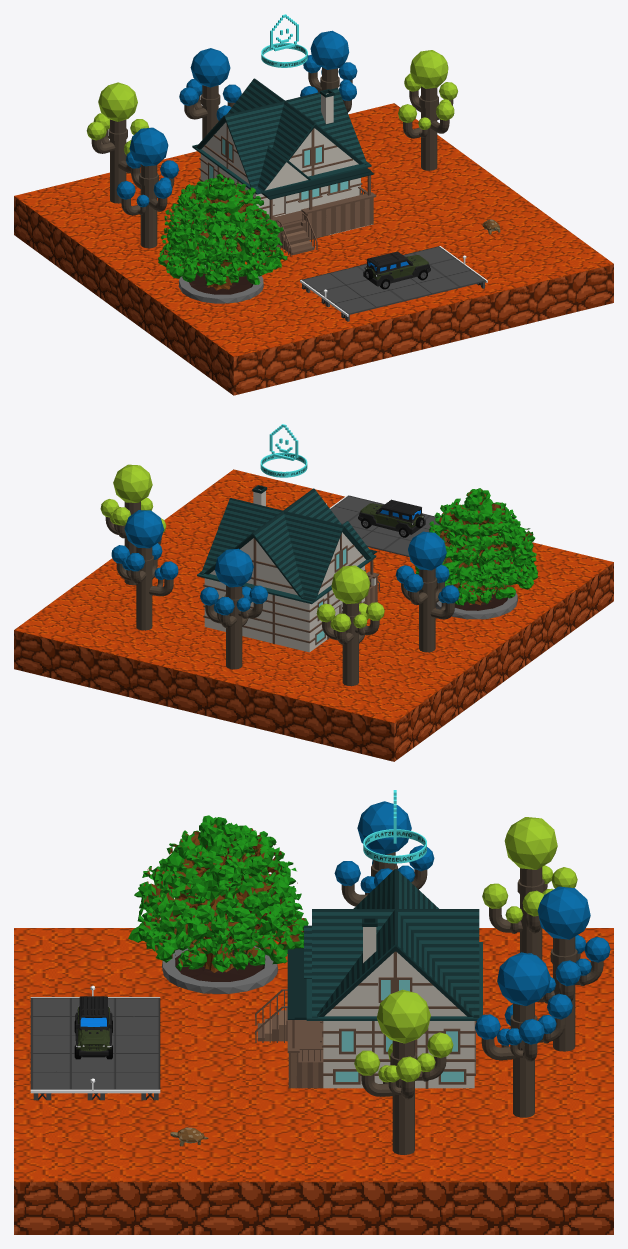
3 renders of one model, top to bottom at view 1: azimuth 30°, elevation 25°; view 2: azimuth 150°, elevation 25°; view 3: azimuth 270°, elevation 25°, orthographic. The views are drawn at different scales.
Parts seen in each view (by area): view 1: Cube.001, Cube.793, OBJRANDOM_CEIBA, VEHICLES_JEEP, TYPE_PREMIUM; view 2: Cube.001, Cube.793, OBJRANDOM_CEIBA, VEHICLES_JEEP, TYPE_PREMIUM; view 3: Cube.001, Cube.793, OBJRANDOM_CEIBA, VEHICLES_JEEP, TYPE_PREMIUM.
Part boxes in pixels (x1,y1,x2,y2): Cube.001: [14, 30, 613, 395]; Cube.793: [192, 78, 376, 256]; OBJRANDOM_CEIBA: [158, 173, 287, 303]; VEHICLES_JEEP: [363, 251, 430, 289]; TYPE_PREMIUM: [261, 14, 307, 67]; Cube.001: [14, 464, 613, 761]; Cube.793: [197, 485, 379, 652]; OBJRANDOM_CEIBA: [415, 488, 537, 619]; VEHICLES_JEEP: [358, 499, 425, 537]; TYPE_PREMIUM: [260, 424, 307, 477]; Cube.001: [14, 801, 613, 1234]; Cube.793: [255, 869, 482, 1088]; OBJRANDOM_CEIBA: [128, 815, 308, 993]; VEHICLES_JEEP: [74, 996, 112, 1059]; TYPE_PREMIUM: [363, 790, 426, 863].
Bounding box in the file's own units: 4000 × 2413 × 4000.
Materials: 32 (6 with a texture image).
